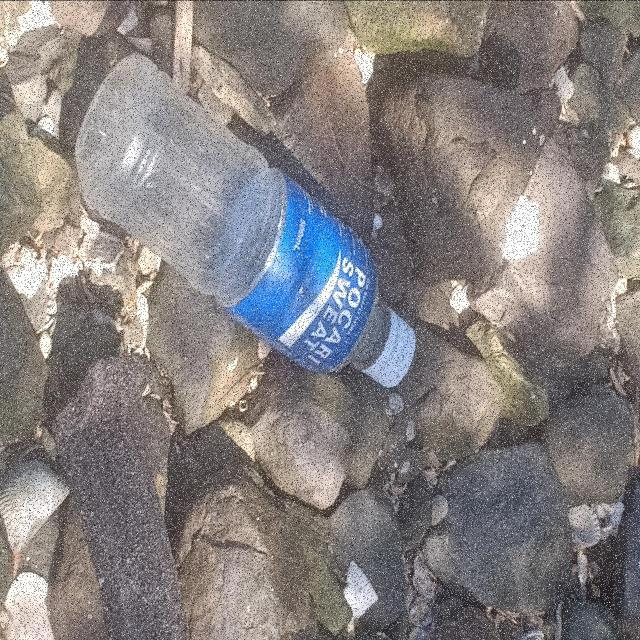plastic_waste: (77, 56, 418, 390)
